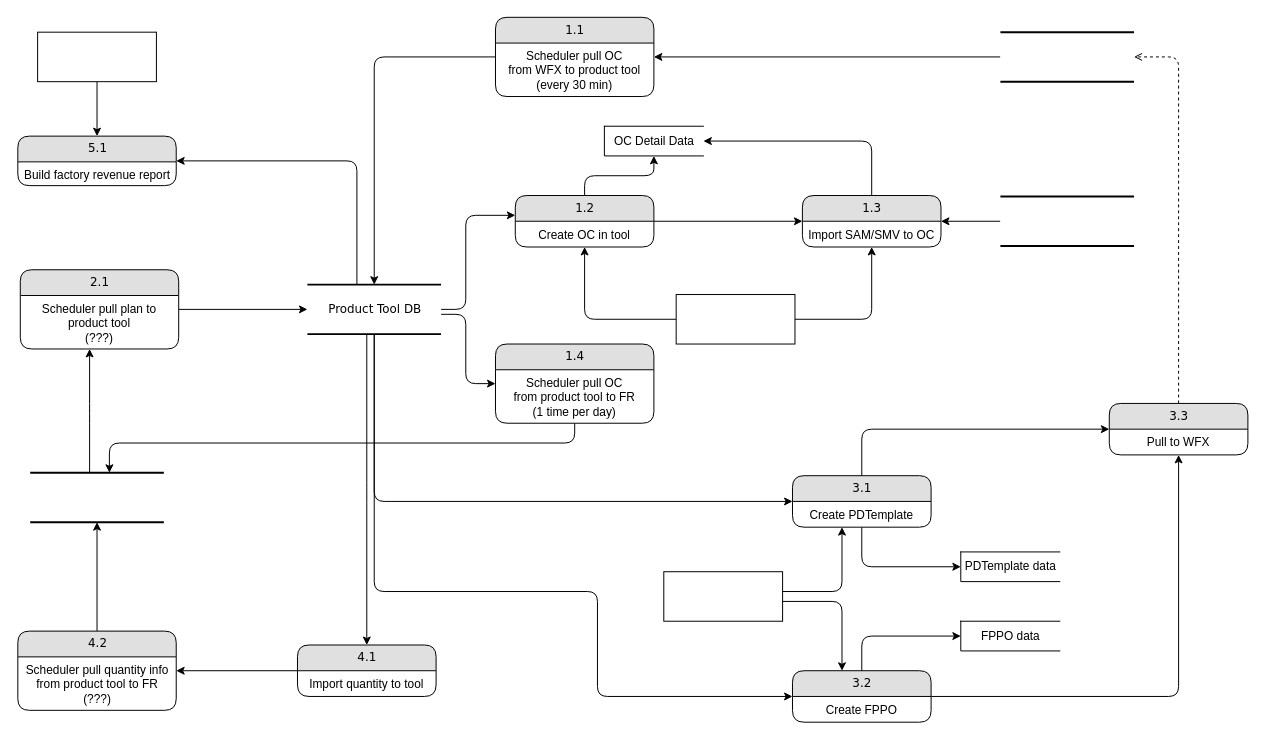
Image size: 1265x743. Some labels were removed from this diagram. Here are the shapes that lost their labels. From the top down, the centre of each, then its label:
point 96,56: Report User
point 1067,56: WFX DB
point 1067,221: IED DB
point 735,319: IE user
point 96,497: Fast React DB
point 723,596: Tool User
